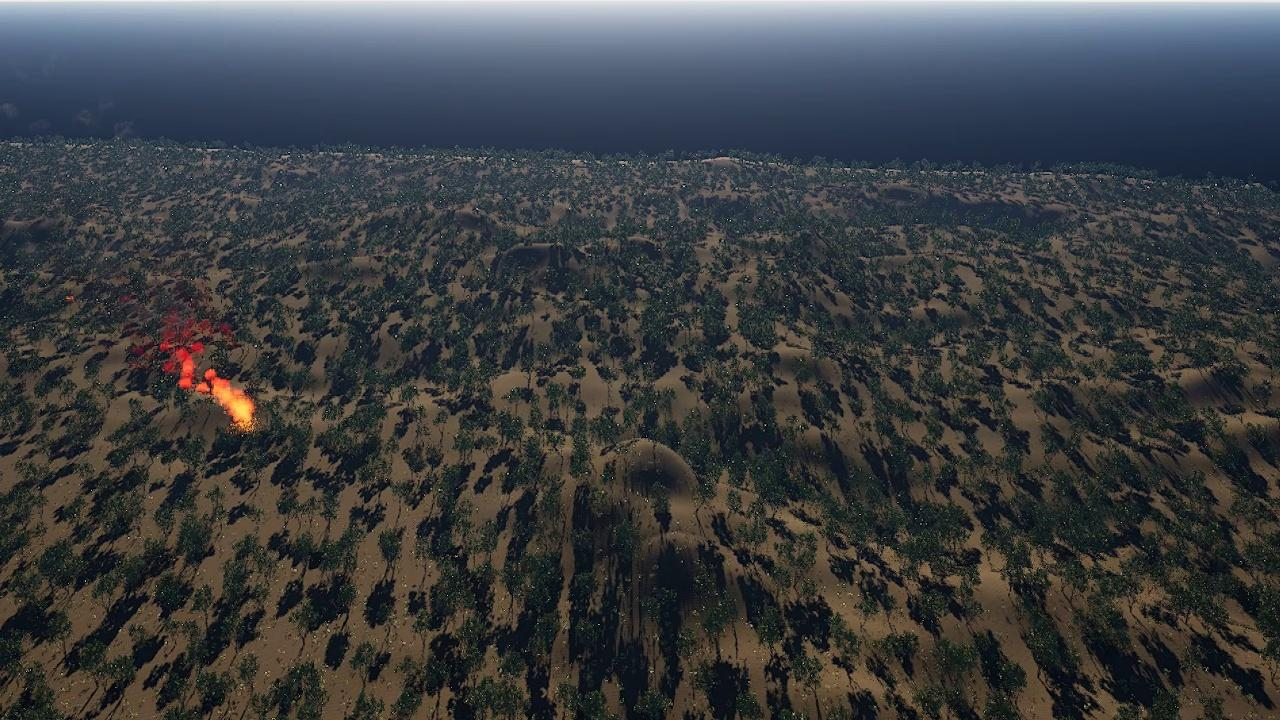fire: (206, 375, 253, 427), (65, 295, 74, 302)
smoke: (0, 50, 144, 146), (116, 284, 230, 389)
